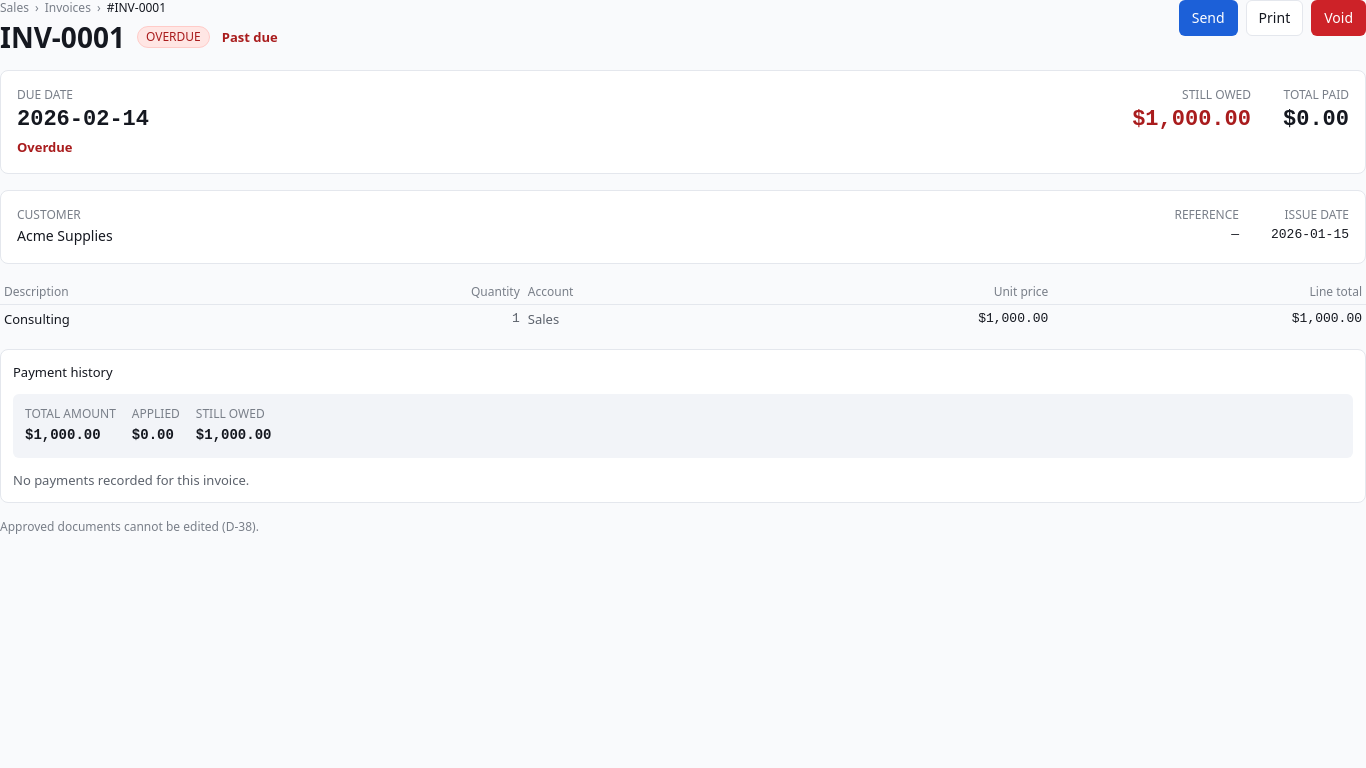
Test: sending an invoice from the document view › sends with no recipientEmail when blank, carrying one idempotency key
The image size is (1366, 768).
Click the button "Send": x=1208, y=18 [1179,0,1238,36]
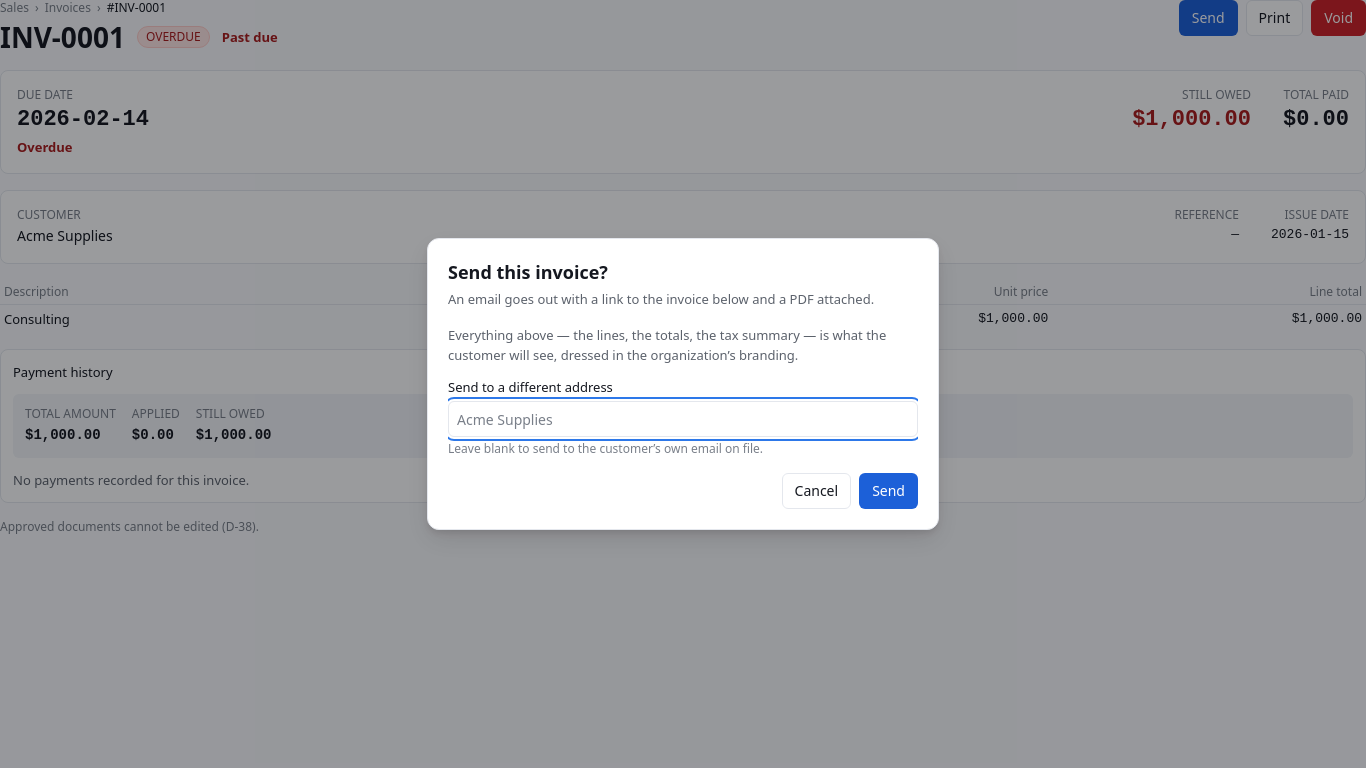
Click the button "Send": x=889, y=491 [859,473,918,509]
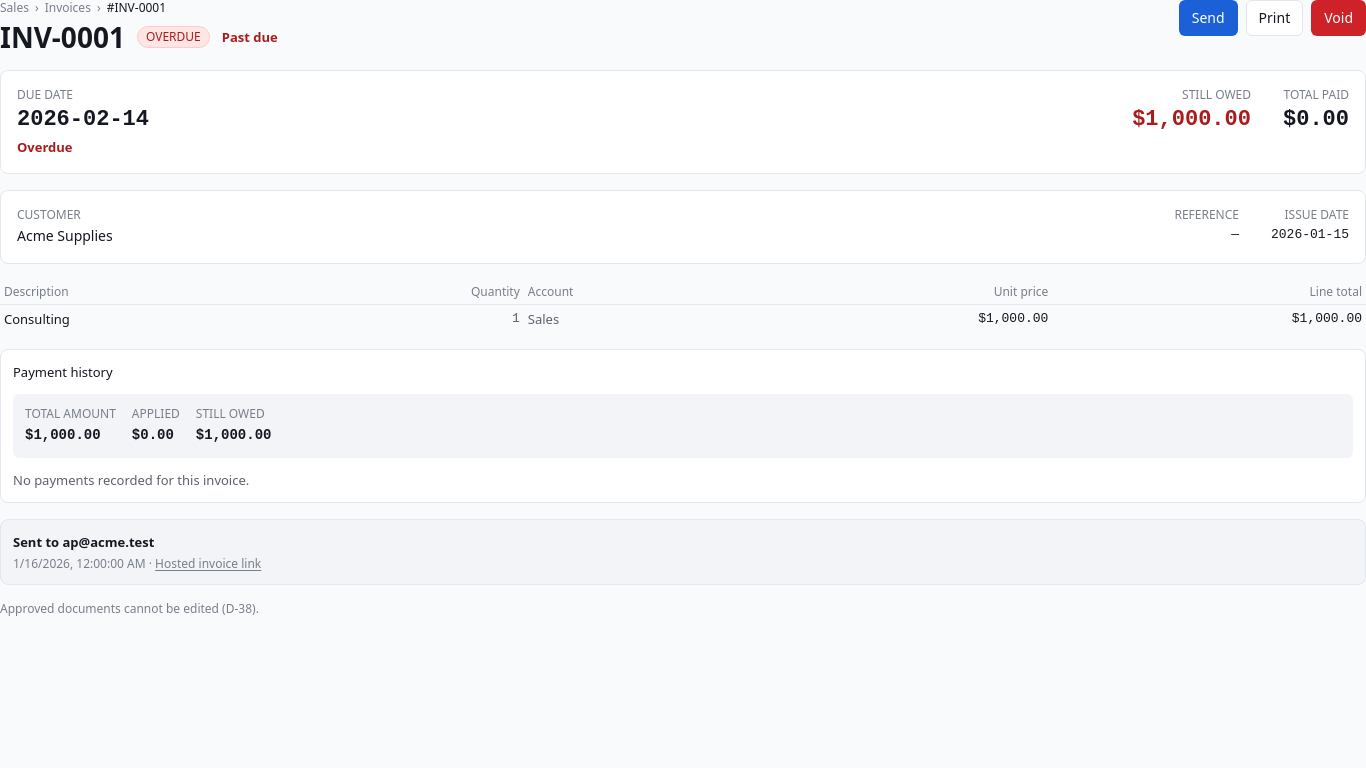
Expected: the text "Sent to ap@acme.test" is shown, [13,533,154,551]
